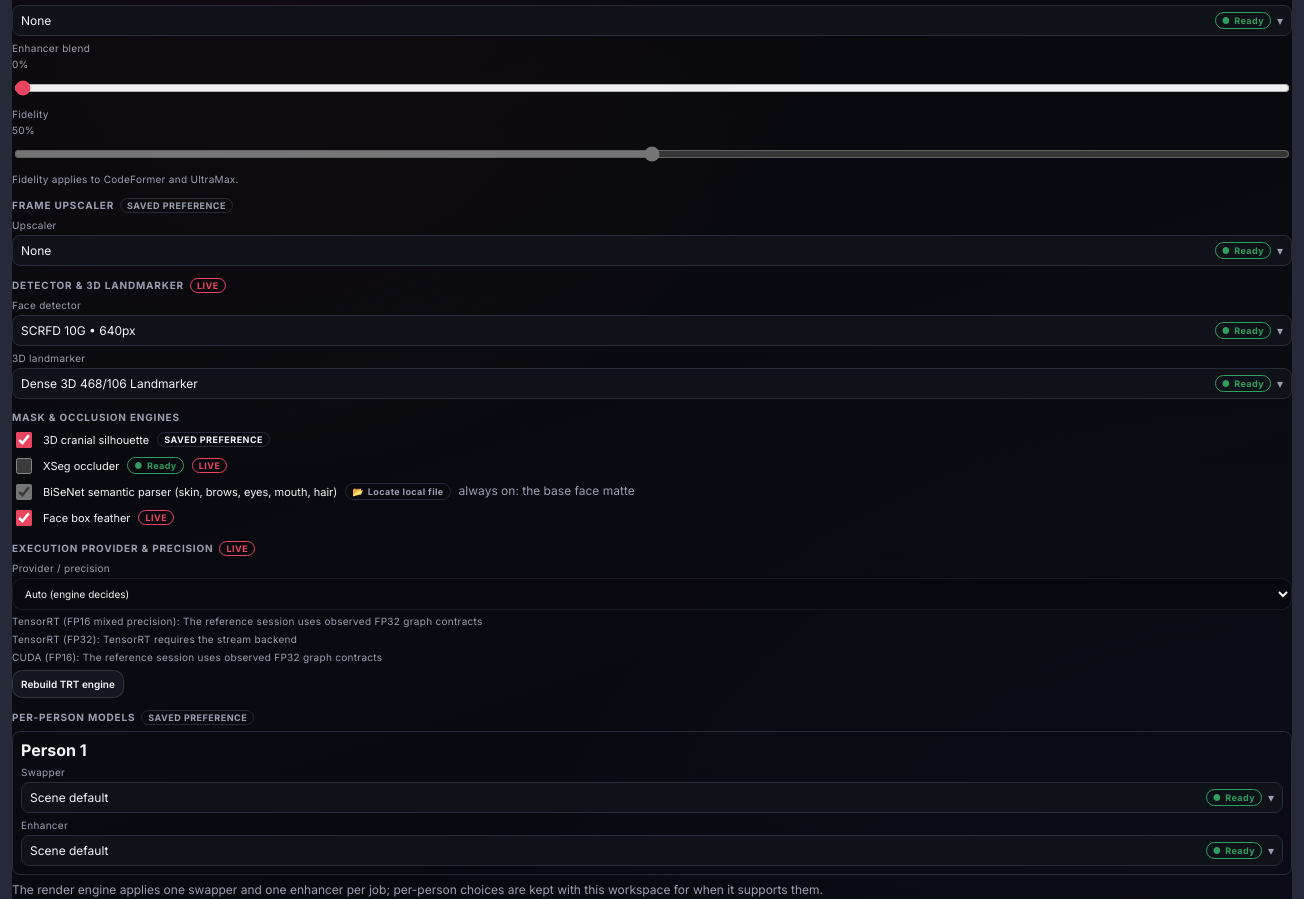
Test case: Engine & Model Rack › reports the real answer when a TensorRT rebuild is refused
The image size is (1304, 899).
(page scrolled)
Click the button "Rebuild TRT engine" at (68, 684), box [12,670,124,698]
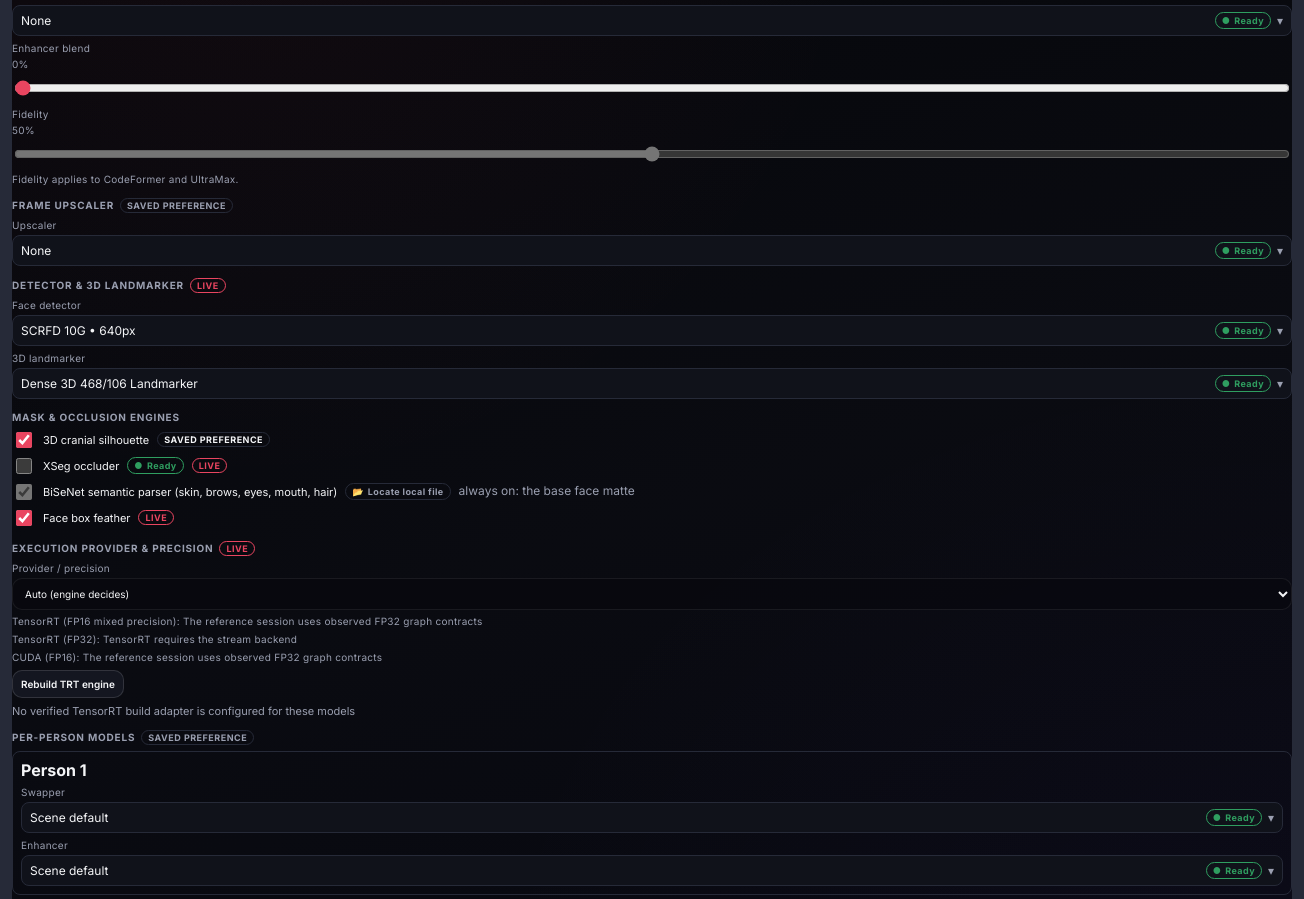
Result: the text "No verified TensorRT build adapter" is shown at [12,704,355,718]
